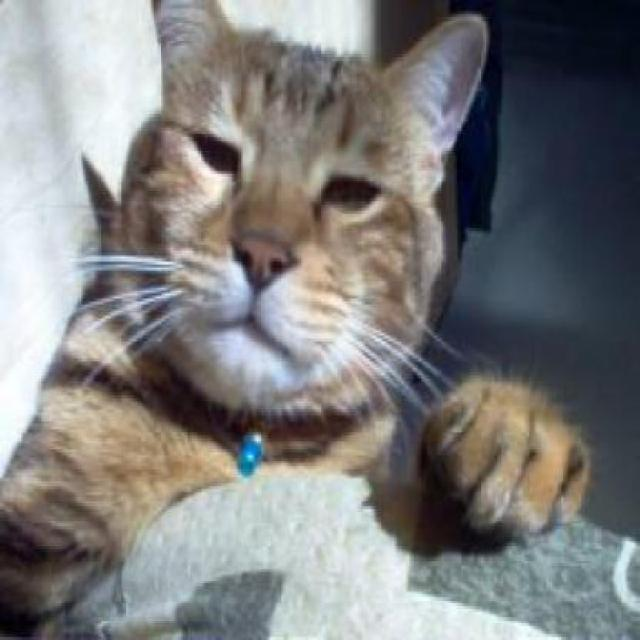cat: (0, 0, 589, 637)
